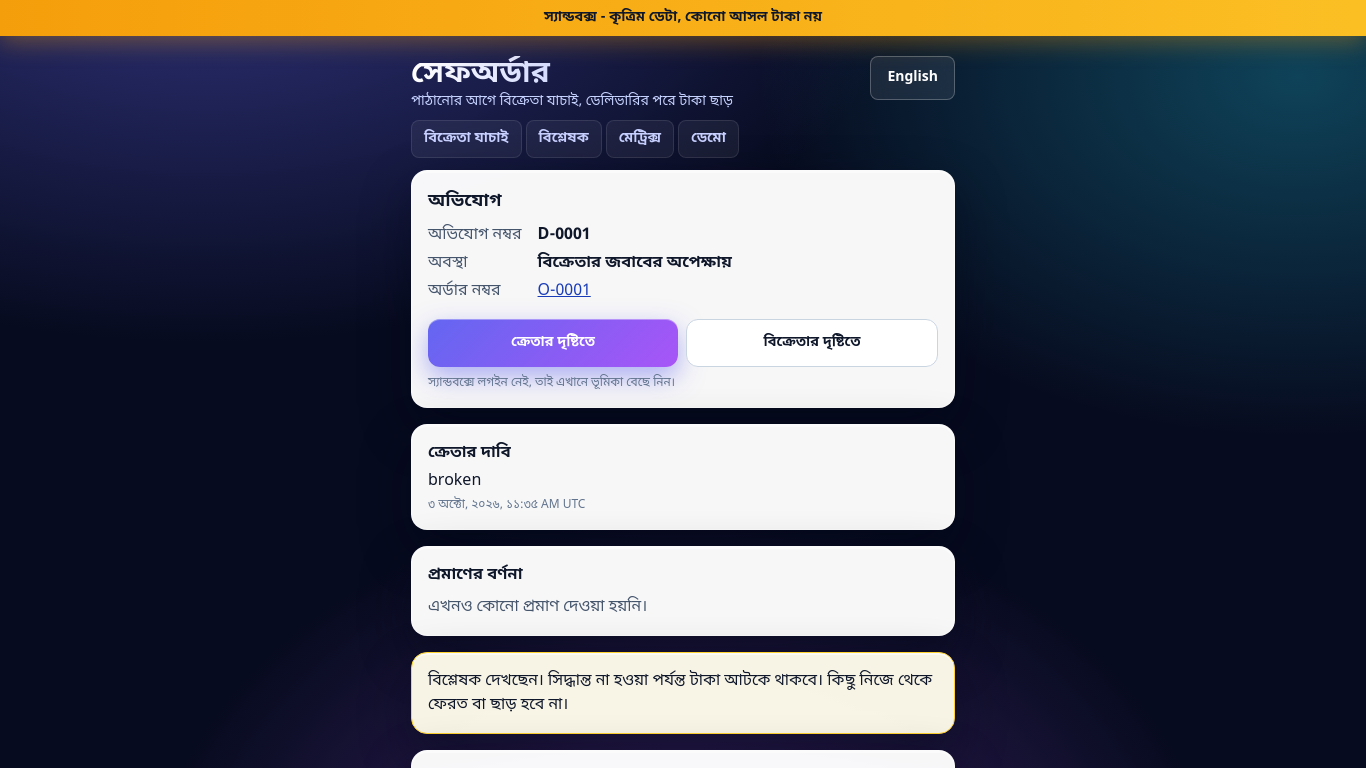
Scenario: seller response form › switches between the buyer and the seller view
Expected: the text "বিক্রেতার জবাবের অপেক্ষায়" is shown, [538,252,732,274]
What coordinates should you click on to do the following:
click the button "বিক্রেতার দৃষ্টিতে"
I would click on:
 (812, 343)
Its box is [686,319,938,367].
(page scrolled)
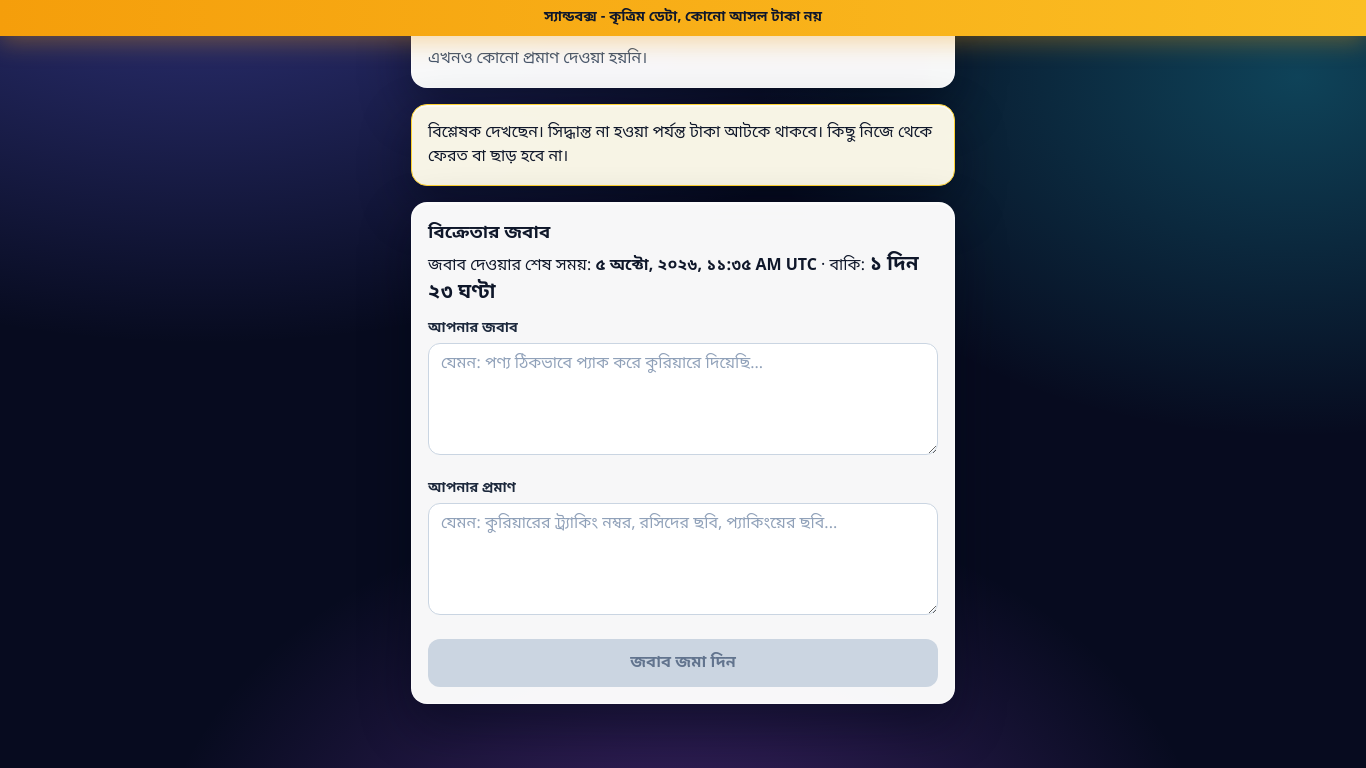
Expected: the element named "seller-form" is shown, [411,202,955,704]
